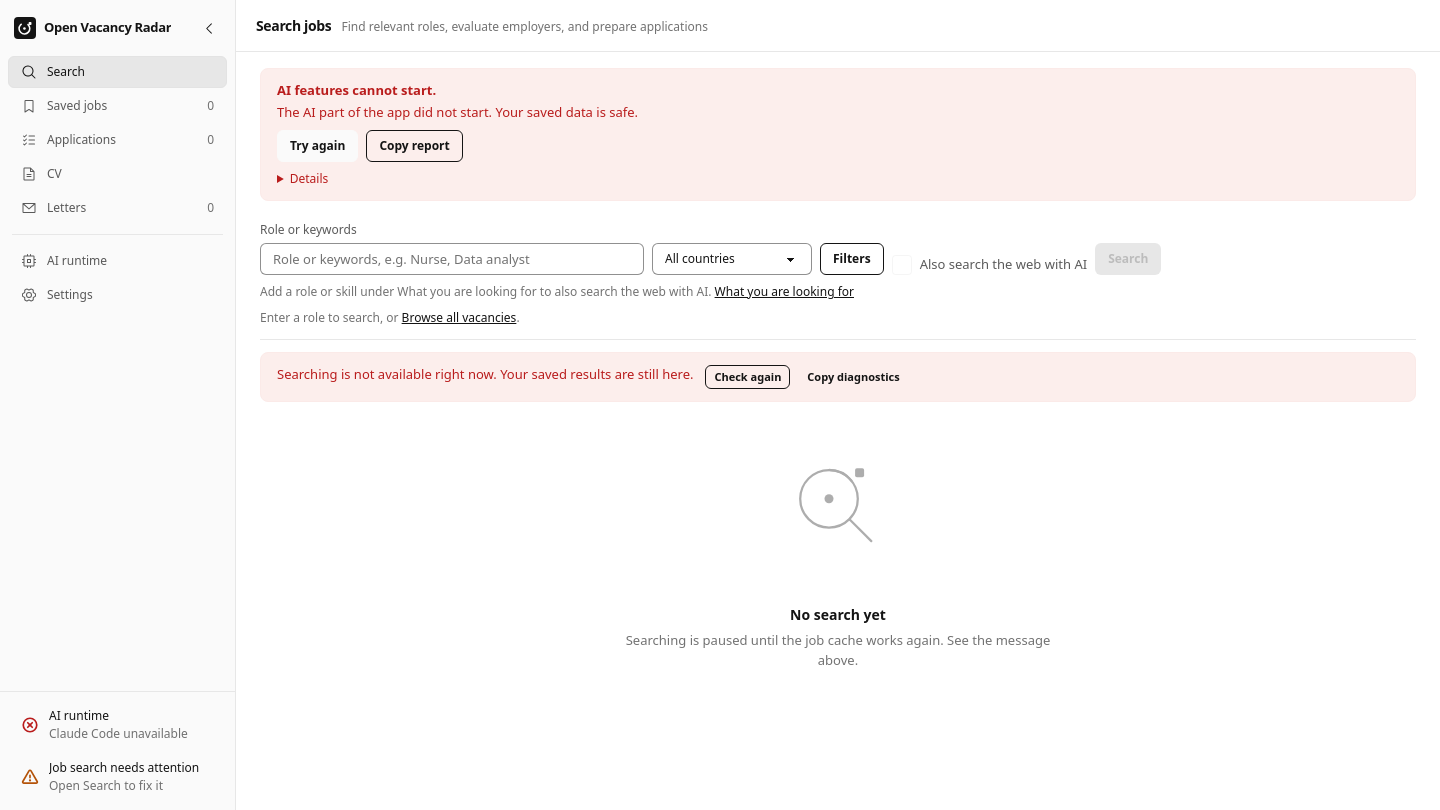
Scenario: App › AI helper unavailable (issue #478) › a failed Try again stays actionable and says so
The width and height of the screenshot is (1440, 810).
Click the button "Try again" at (318, 146), box [277,130,358,162]
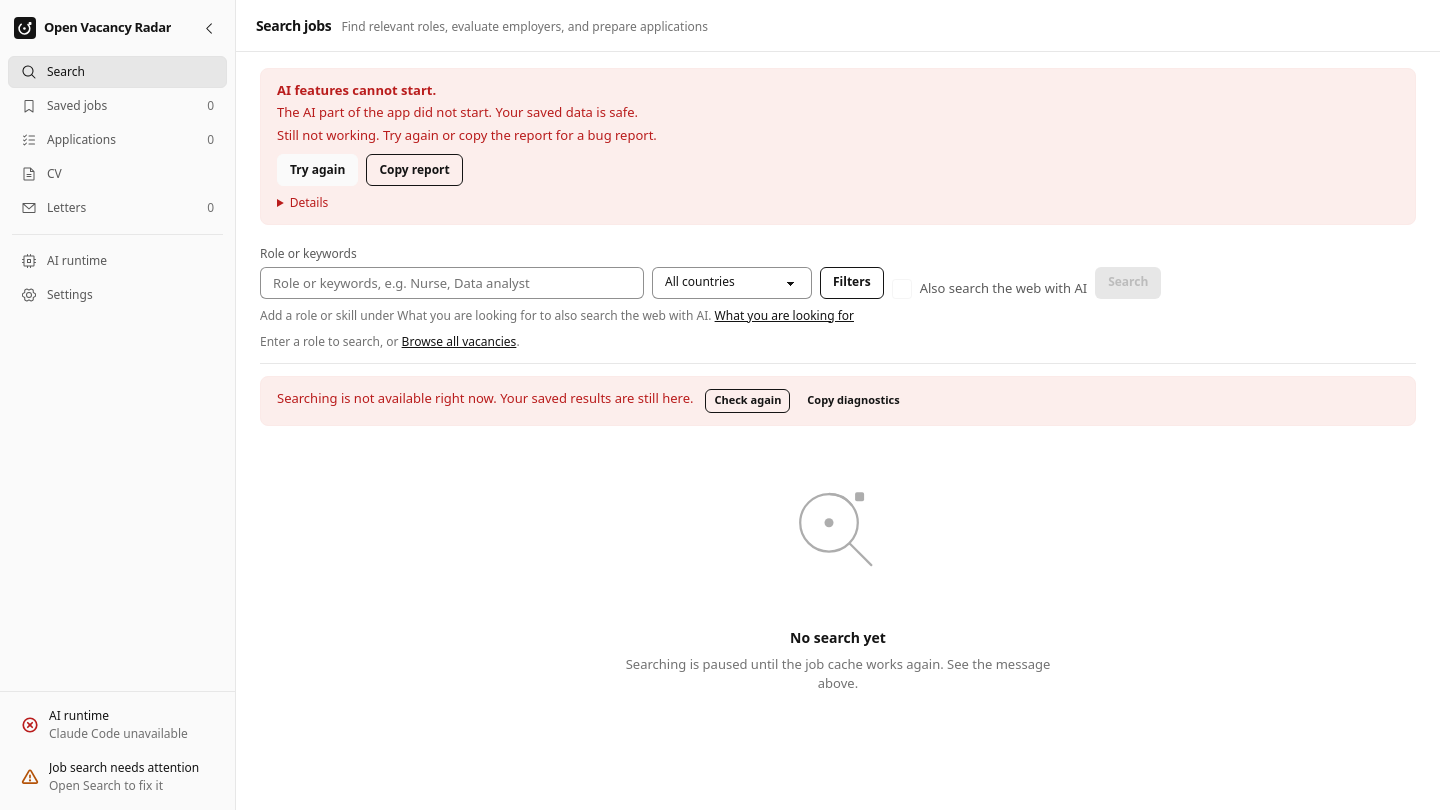
Expected: the button "Try again" is enabled, [277,154,358,186]
Now the text with test id "ai-helper-retry-failed" is shown, box [277,126,657,146]
